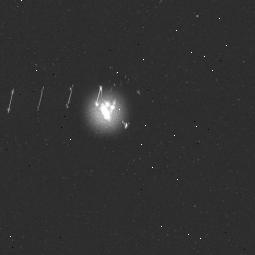earth_observation_sat_1: (1, 77, 135, 134)
